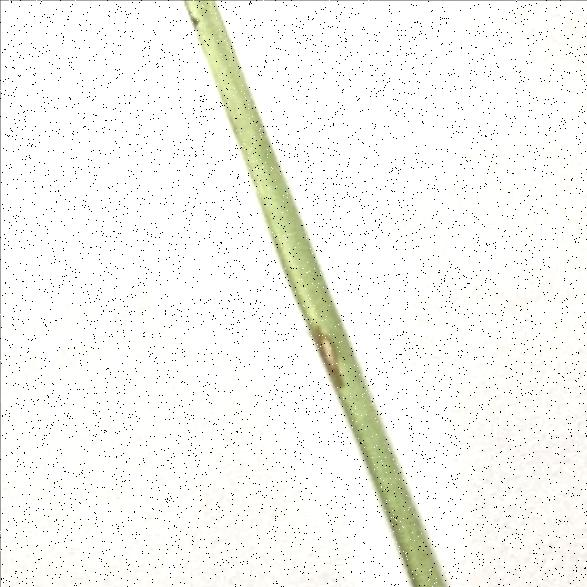Leaf_smut: (309, 315, 352, 393)
